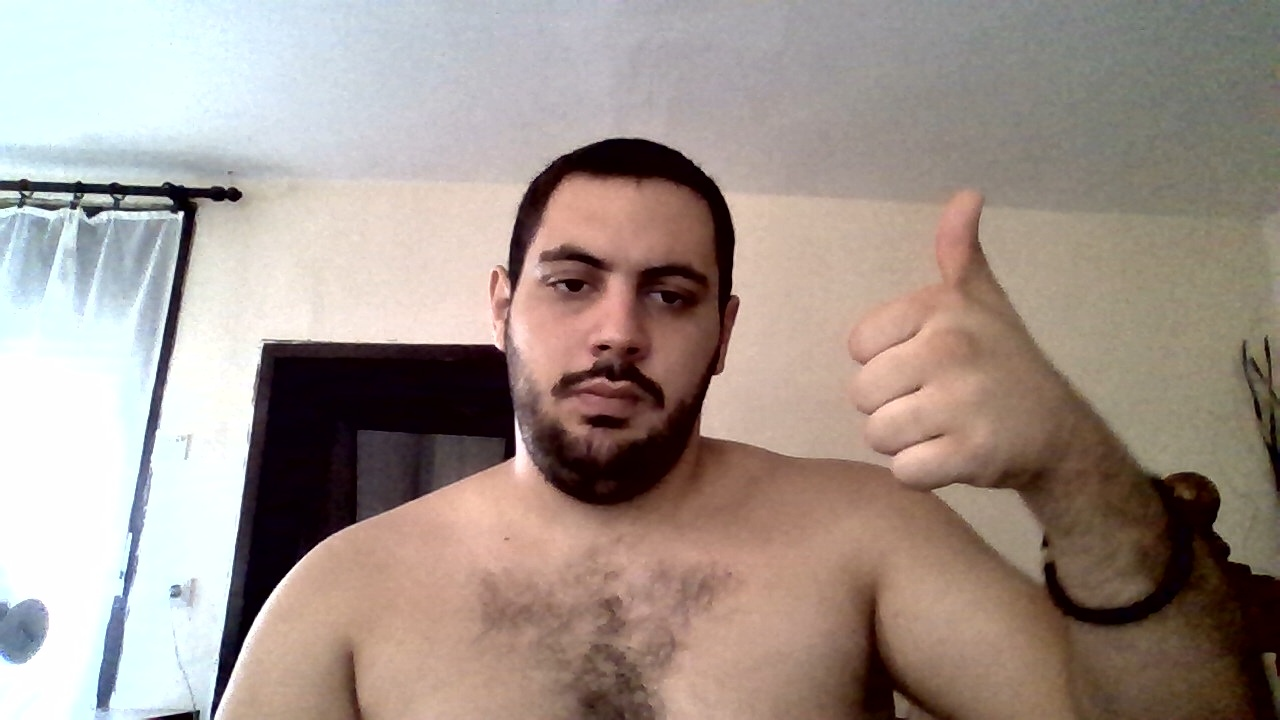like: (843, 191, 1030, 493)
